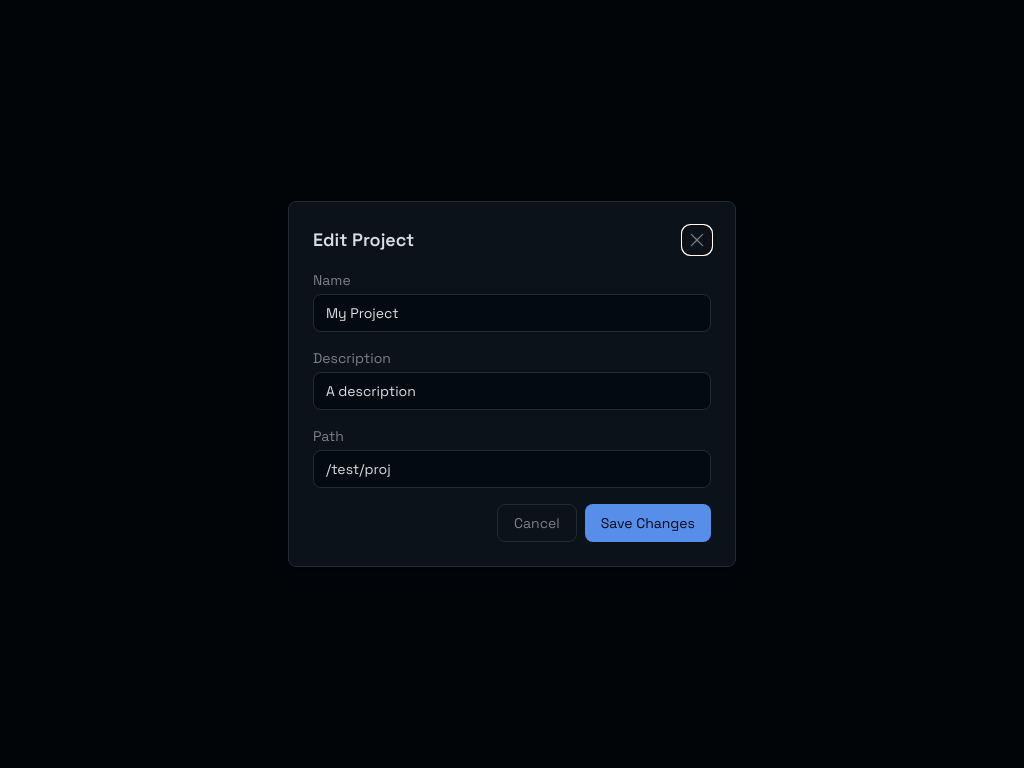
Test: EditProjectDialog › shows error on failure
Click the button "Save Changes". click: click(648, 523)
box: x1=585 y1=504 x2=711 y2=542
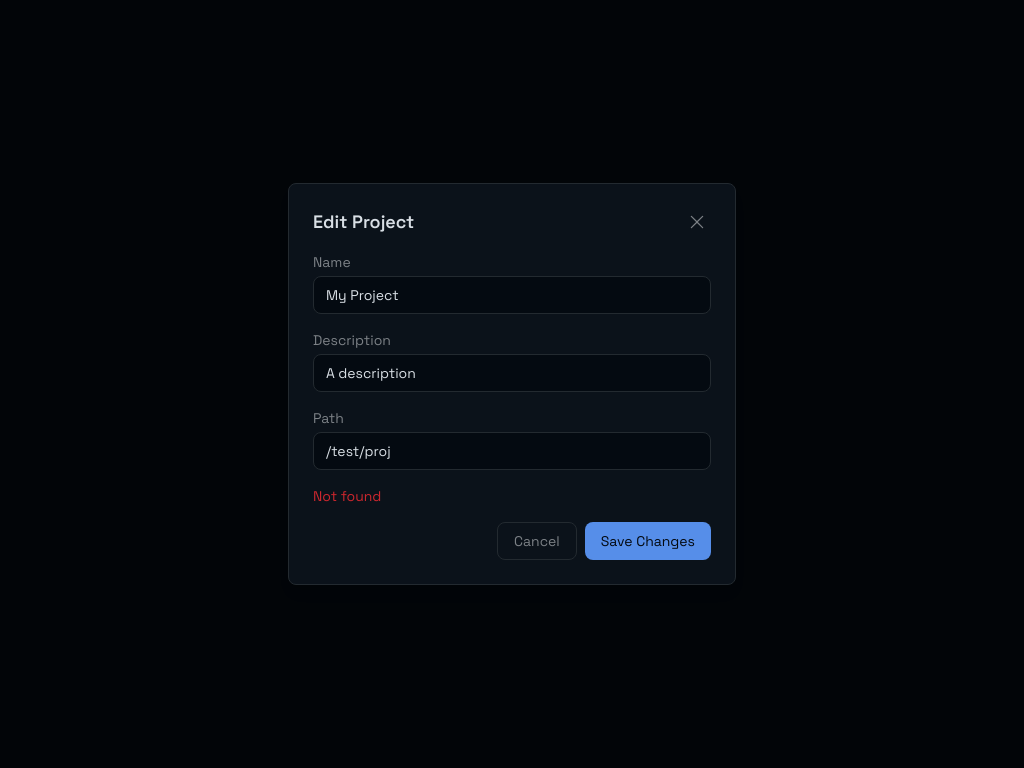
Expected: the text "Not found" is shown, x1=313 y1=487 x2=381 y2=505
